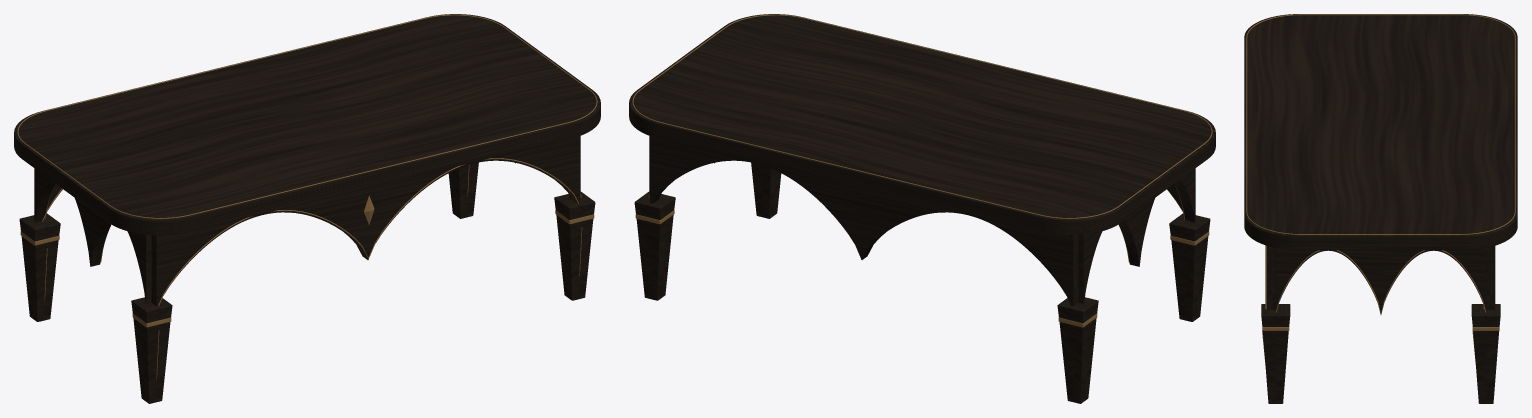
Rendered from gotico_mesa_centro.glb.
3 renders of one model, left to right at view 1: azimuth 30°, elevation 25°; view 2: azimuth 150°, elevation 25°; view 3: azimuth 270°, elevation 25°, orthographic. The views are drawn at different scales.
Parts seen in each view (by area): view 1: mesa_centro; view 2: mesa_centro; view 3: mesa_centro.
Boxes of the visible parts, x1=… form: mesa_centro: x1=14, y1=14, x2=600, y2=403; mesa_centro: x1=629, y1=14, x2=1215, y2=403; mesa_centro: x1=1244, y1=14, x2=1517, y2=403.
Size of the model in its own units: 1.25 by 0.4716 by 0.65.
Materials: 2 (1 with a texture image).
